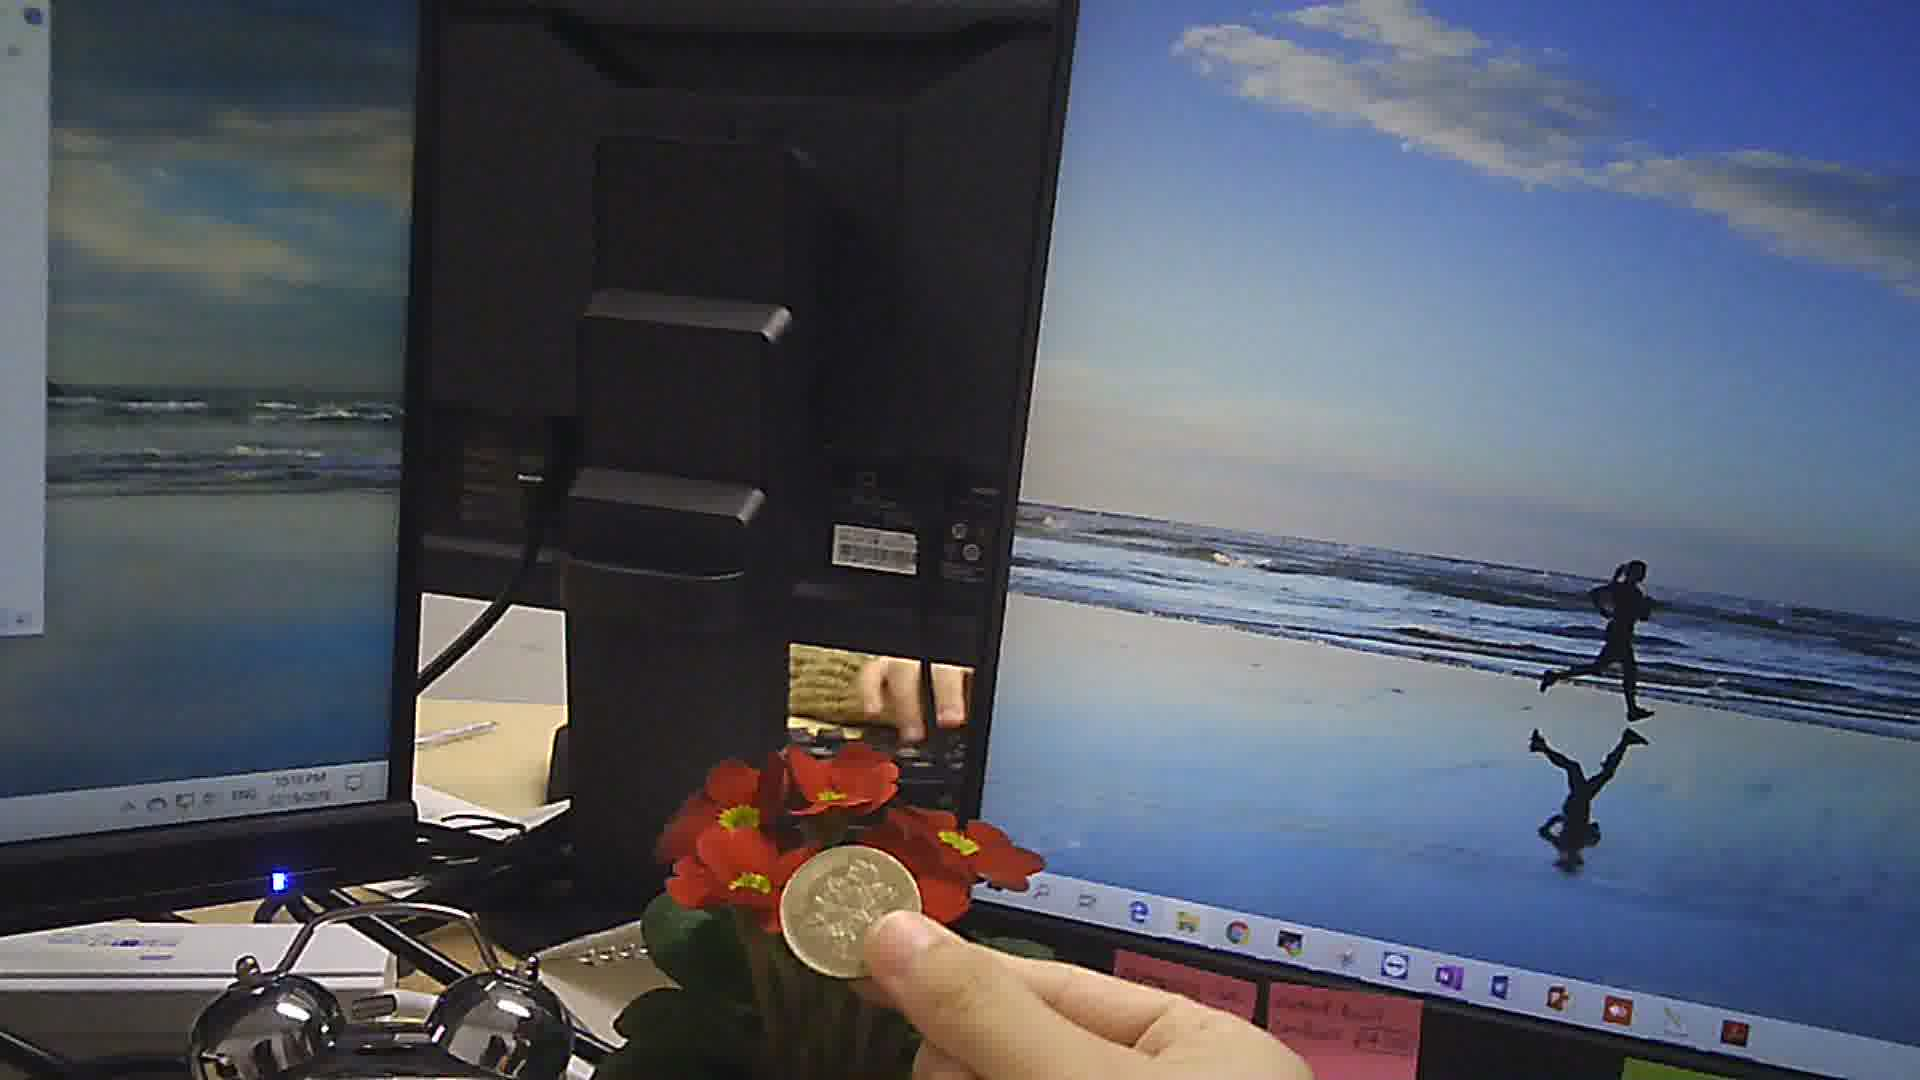500 Yen: (775, 841, 927, 982)
